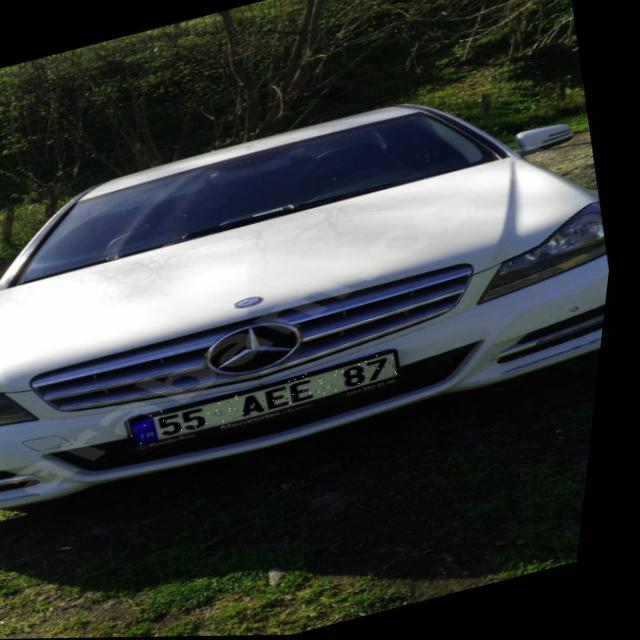license_plate: (135, 350, 412, 447)
